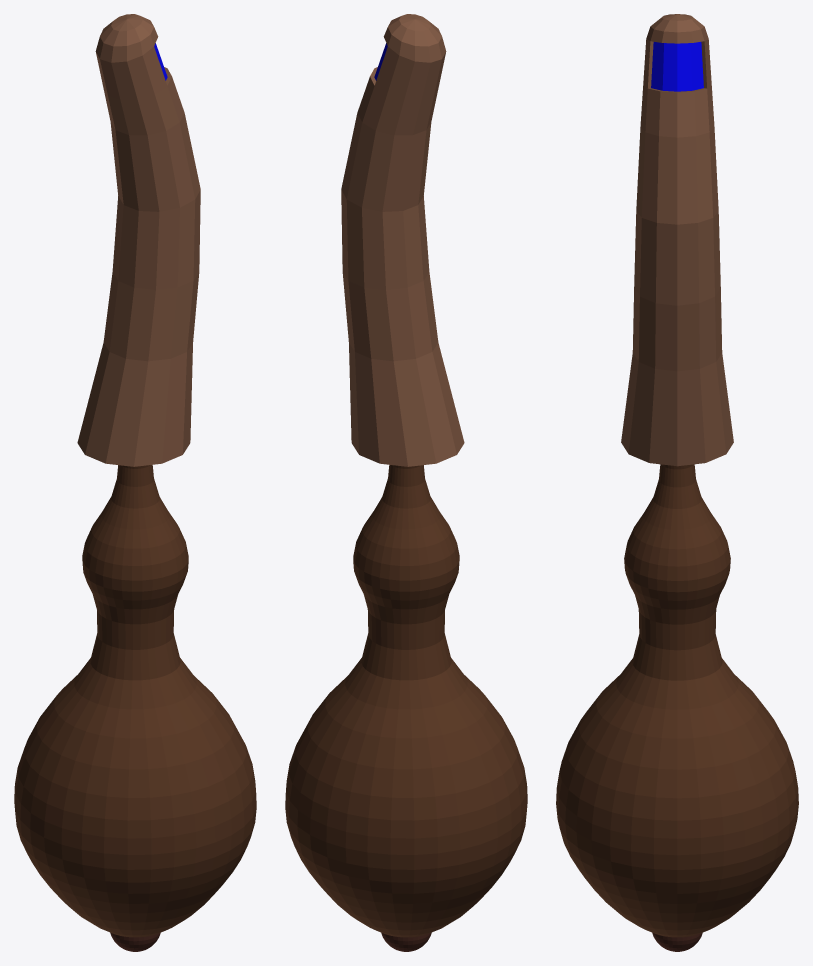
Rendered from Wand 643.glb.
3 renders of one model, left to right at view 1: azimuth 30°, elevation 25°; view 2: azimuth 150°, elevation 25°; view 3: azimuth 270°, elevation 25°, orthographic.
Parts seen in each view (by area): view 1: GeneratedWand; view 2: GeneratedWand; view 3: GeneratedWand.
Part boxes in pixels (left/top/right/bottom): GeneratedWand: left=14, top=14, right=256, bottom=951; GeneratedWand: left=285, top=14, right=527, bottom=951; GeneratedWand: left=556, top=14, right=798, bottom=951.
Bounding box in the file's own units: 0.123 × 0.5203 × 0.123.
